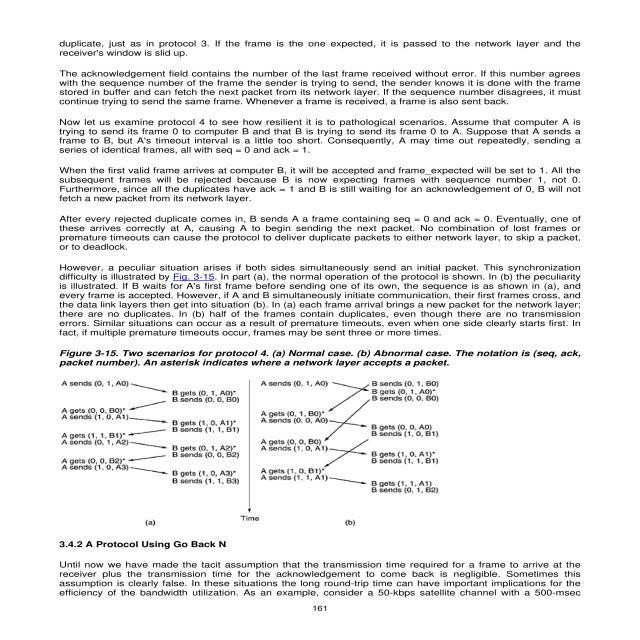diagram: (39, 342, 590, 532)
